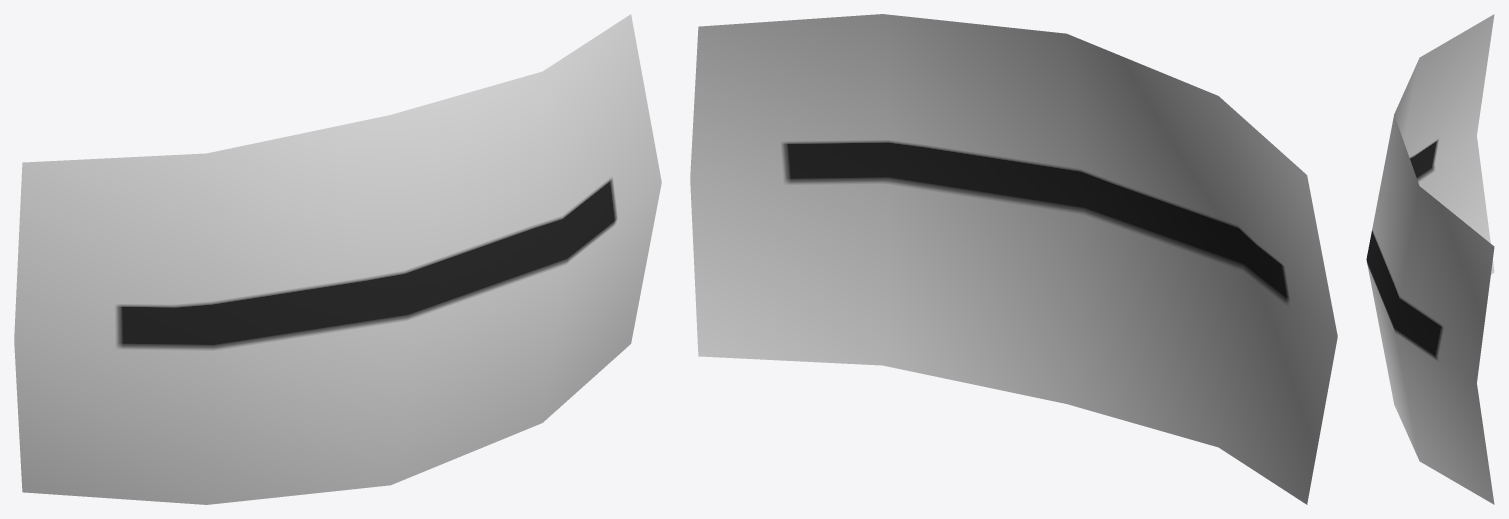
Rendered from eye6.fbx.
3 renders of one model, left to right at view 1: azimuth 30°, elevation 25°; view 2: azimuth 150°, elevation 25°; view 3: azimuth 270°, elevation 25°, orthographic. The views are drawn at different scales.
Parts seen in each view (by area): view 1: Cube.011; view 2: Cube.011; view 3: Cube.011.
Boxes of the visible parts, left/top/right/bottom form: Cube.011: left=14, top=14, right=661, bottom=504; Cube.011: left=690, top=14, right=1337, bottom=504; Cube.011: left=1366, top=14, right=1494, bottom=504.
Size of the model in its own units: 43.42 by 199 by 109.
